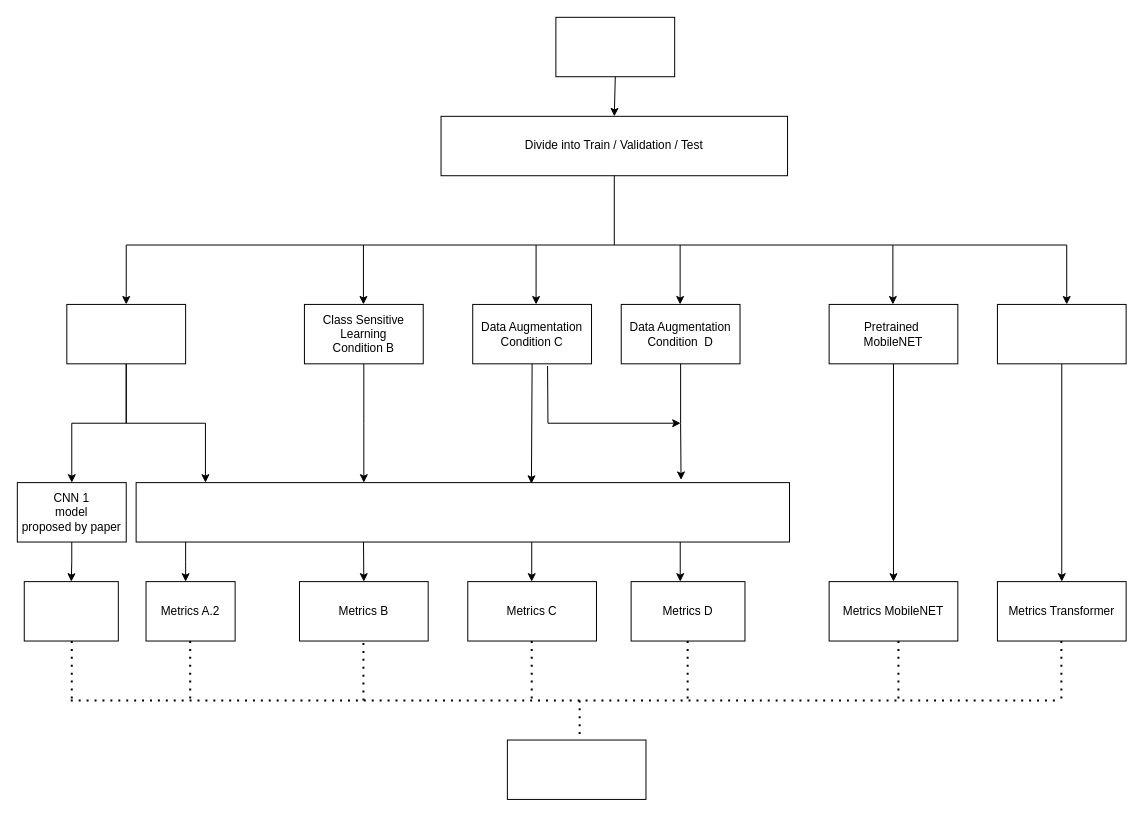
The diagram is 1143 pixels wide and 817 high, and some of its shapes have lost their labels. The shapes that lost their labels are listed below. From the top down, each one's centre as x and y in pixels, then its label:
At pixel 615 46: "Dataset".
At pixel 126 333: "No data augmentation Condition A".
At pixel 1061 333: "Pretrained Transformer".
At pixel 462 512: "CNN 2 model proposed by us".
At pixel 70 611: "Metrics A.1".
At pixel 576 769: "Comparison".
